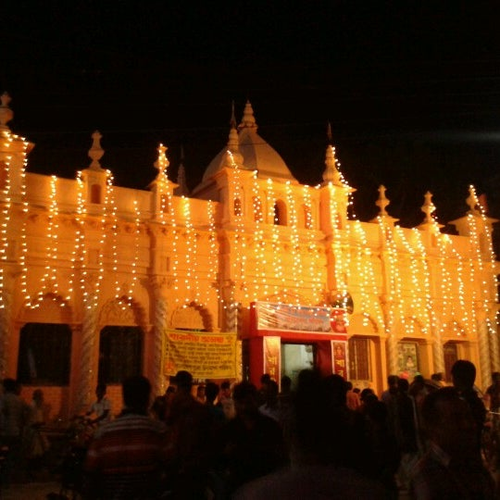Temple: (10, 89, 484, 388)
